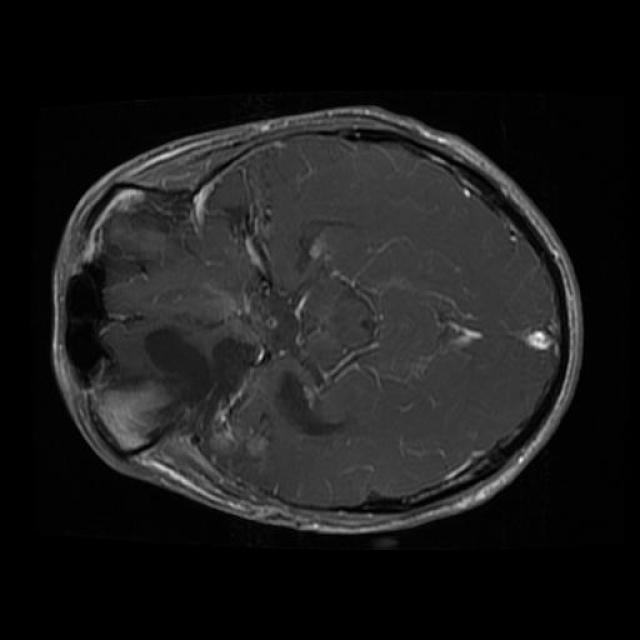Glioma: (145, 327, 258, 401), (275, 371, 342, 433)
